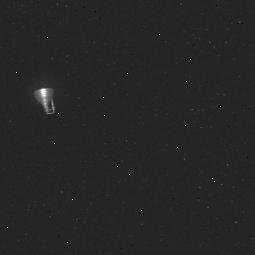debris: (30, 83, 60, 118)
